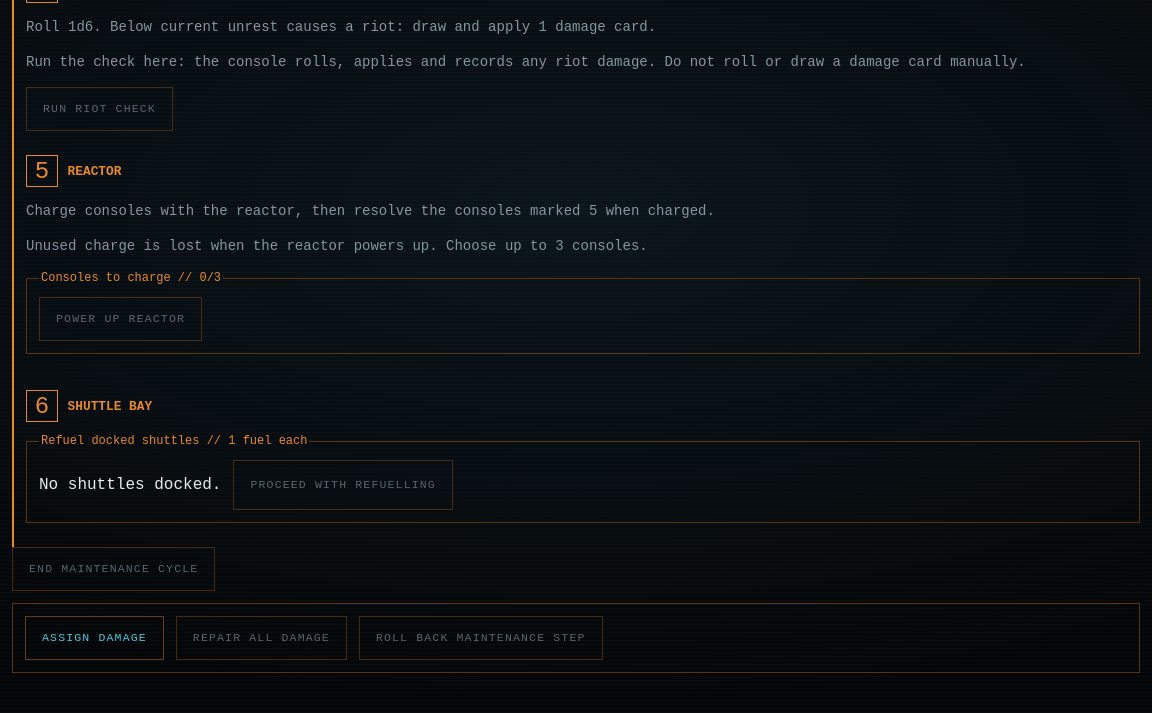
Scenario: asks for a facilitator ruling when Capybara has no damage cards left
The width and height of the screenshot is (1152, 713).
(page scrolled)
Click the button "Assign damage" at {"x": 94, "y": 638}, box [25,616,164,660]
(page scrolled)
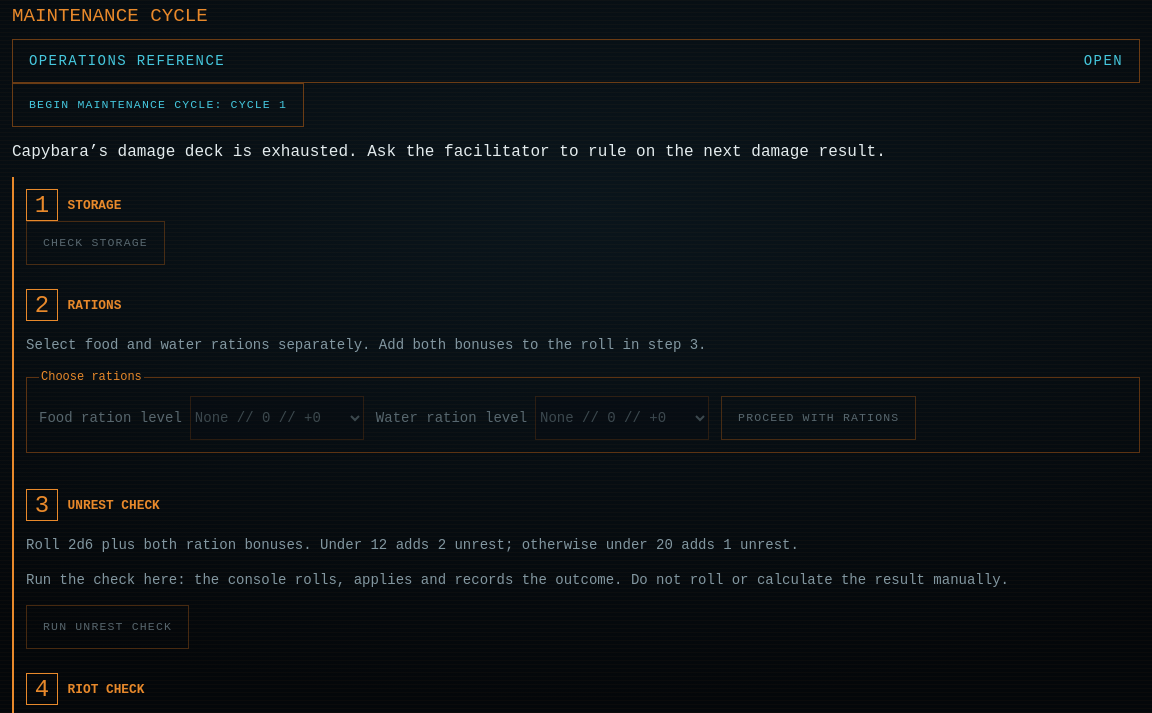
expect the message does not show "Refresh the live state and retry": met, box [12,143,886,161]
expect the message shows "Capybara’s damage deck is exhausted. Ask the facilitator to rule on the next damage result.": met, box [12,143,886,161]
